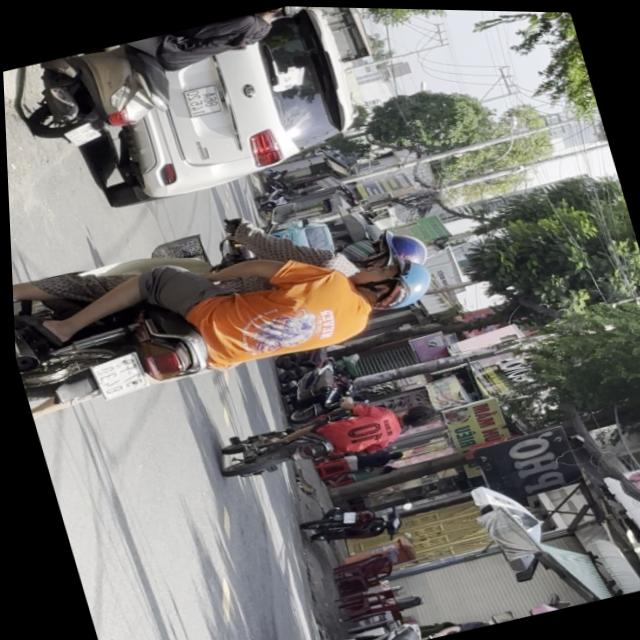helmet: (347, 251, 438, 316), (342, 219, 432, 281)
licenseplate: (6, 172, 455, 430), (205, 380, 442, 490)
motorcyclist: (391, 398, 436, 430)
nohelmet: (86, 349, 145, 400)
